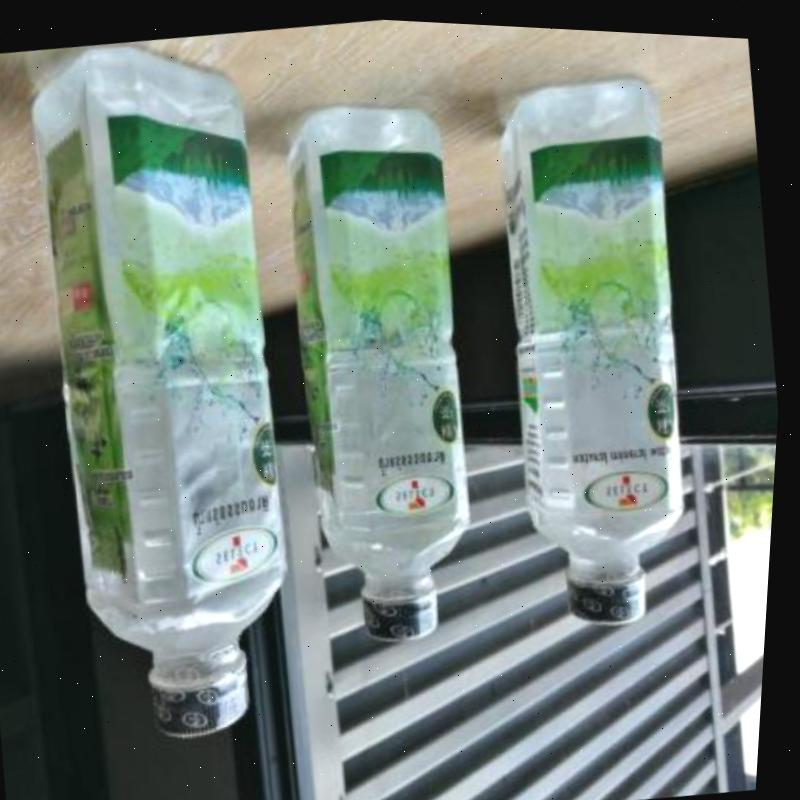botella: (0, 19, 340, 755), (465, 56, 729, 629), (259, 88, 509, 652)
